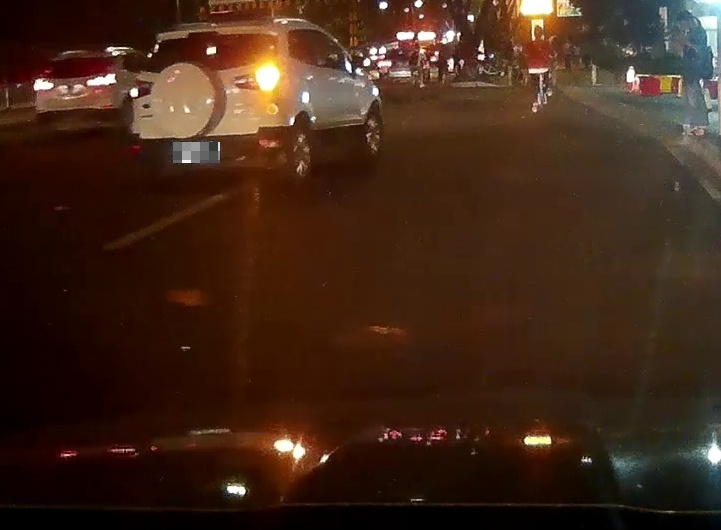L_light: (130, 77, 154, 99), (34, 80, 54, 91)
R_light: (234, 68, 279, 90), (86, 73, 116, 86)
T_light: (188, 31, 219, 36), (76, 55, 88, 58)
night-no: (33, 47, 120, 132)
night-right: (129, 17, 285, 187)
plate_1: (173, 142, 220, 163)
